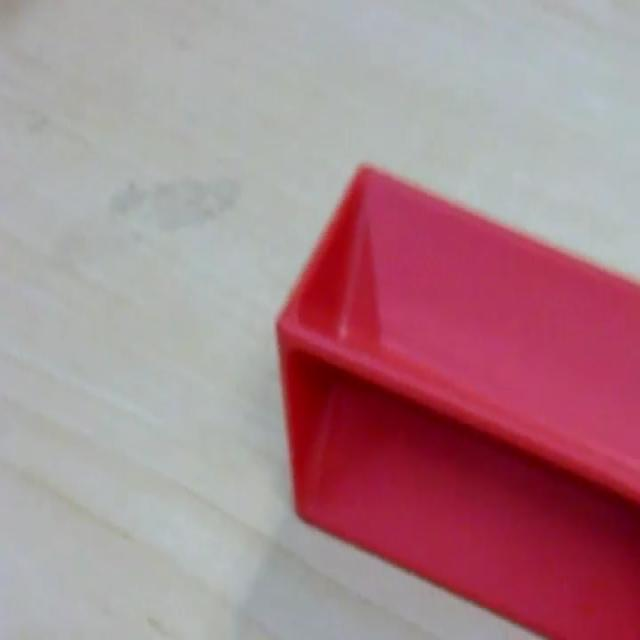red_block: (273, 160, 639, 636)
